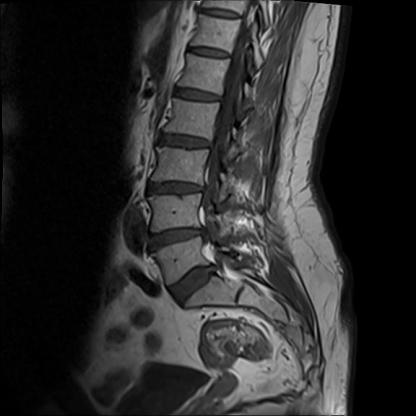Disc Bulgerotation: (146, 225, 206, 253), (155, 132, 215, 155), (143, 178, 205, 200)
Disc Protrusionrotation: (165, 266, 223, 297)
